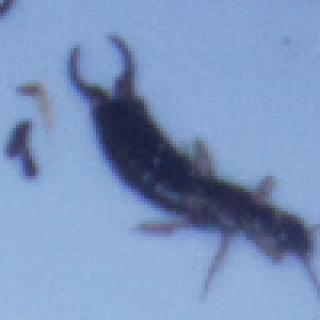earwig: (61, 25, 320, 298)
